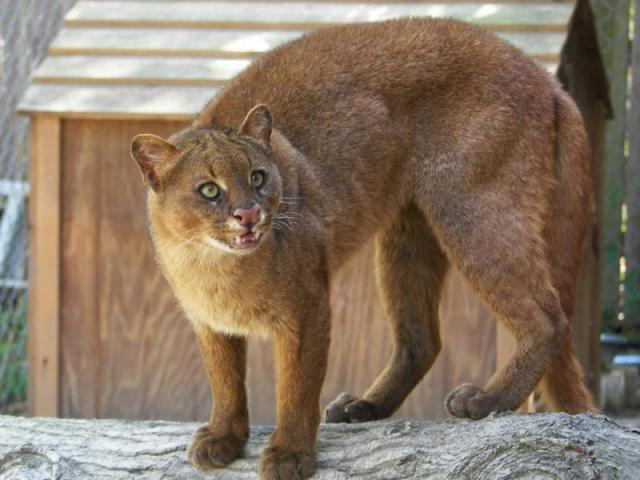Jaguarundi: (124, 16, 608, 476)
